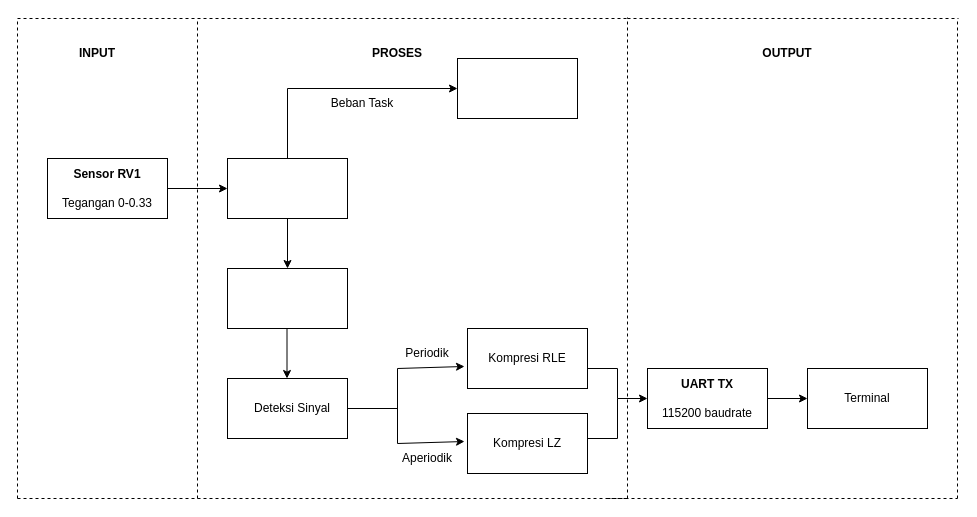
The diagram is 977 pixels wide and 517 high, and some of its shapes have lost their labels. The centre of each missing label's shape, as x and y in pixels:
"ADC + DMA" belongs at [287,188].
"DFS (TIM2)" belongs at [517,88].
"ECC CHECK" belongs at [287,298].
